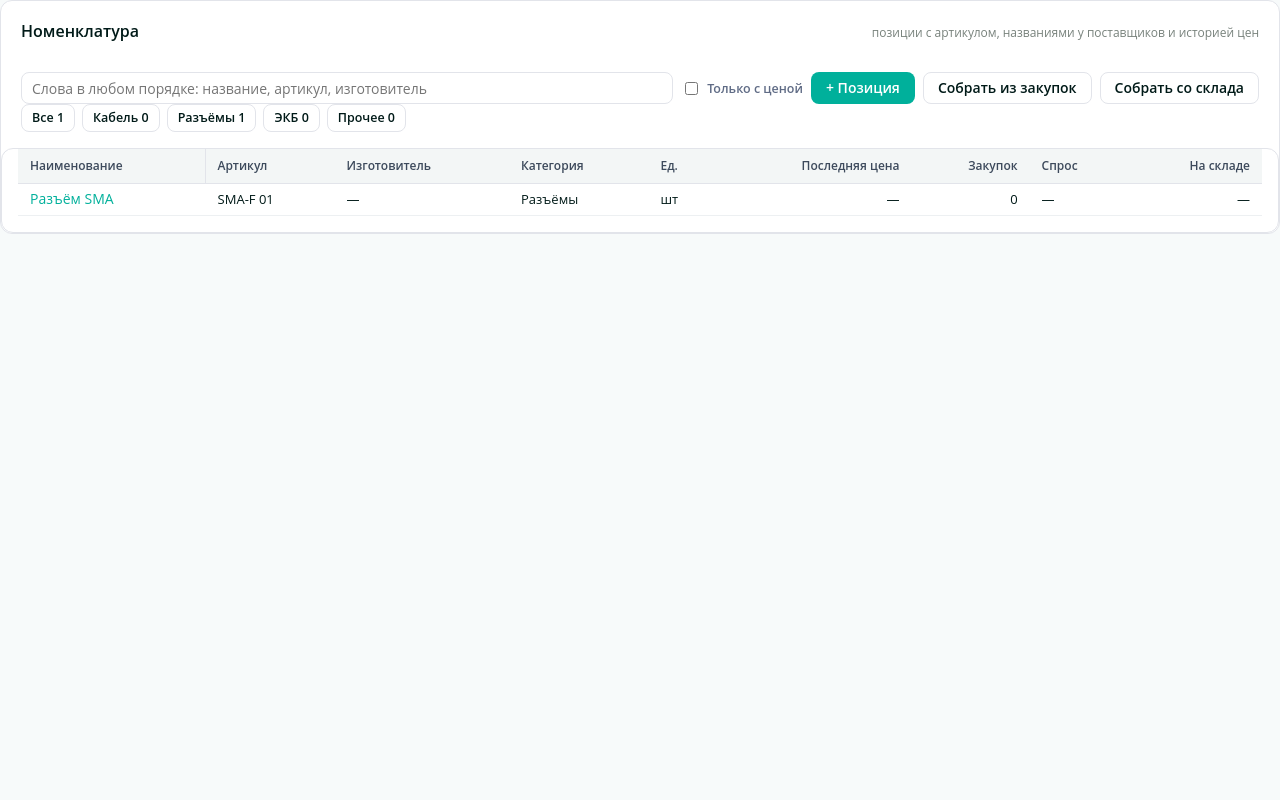
Test case: adds the price sections to the item card
Click the button "Разъём SMA" at {"x": 72, "y": 200}, box [30, 190, 114, 209]
(page scrolled)
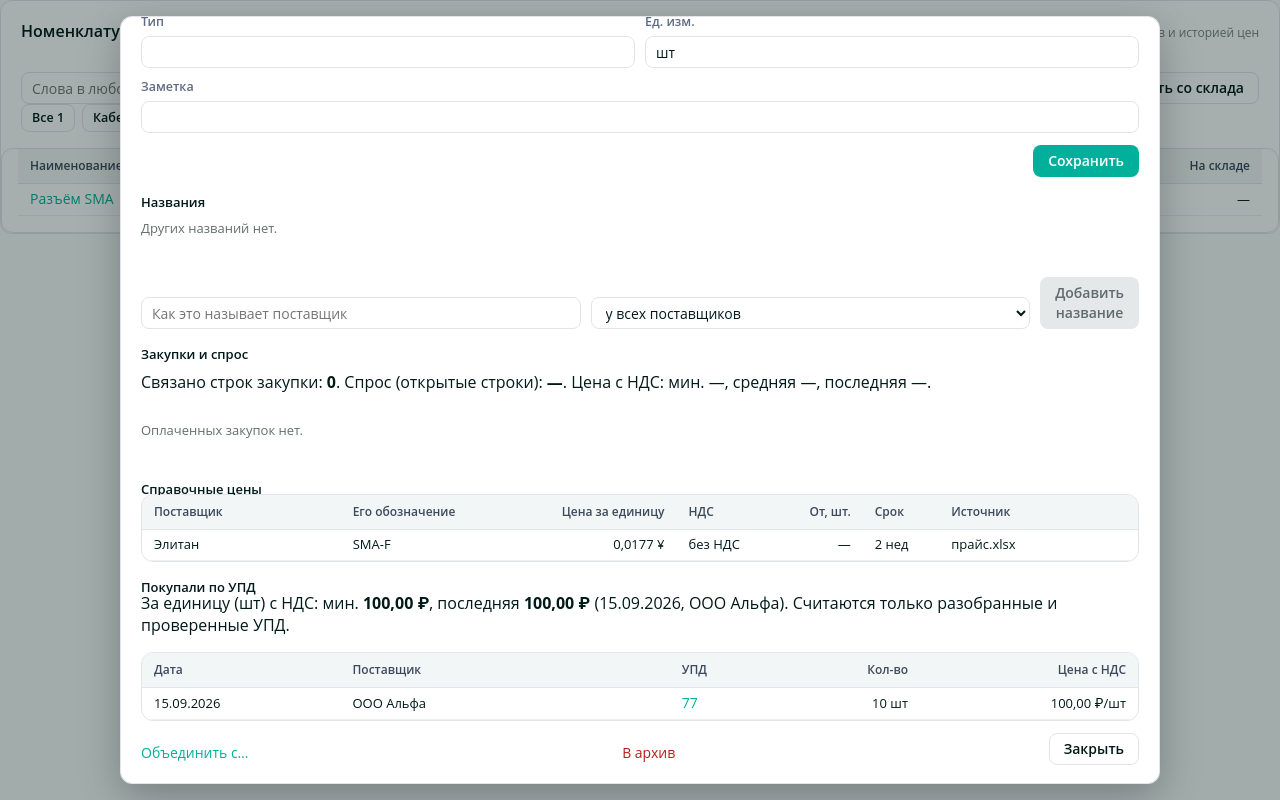
Now the table named "Справочные цены" shows "¥", box [657, 535, 664, 553]
Now the table named "Справочные цены" shows "0,0177", box [613, 535, 654, 553]
Now the table named "Покупки по УПД" shows "100,00", box [1051, 694, 1104, 712]
